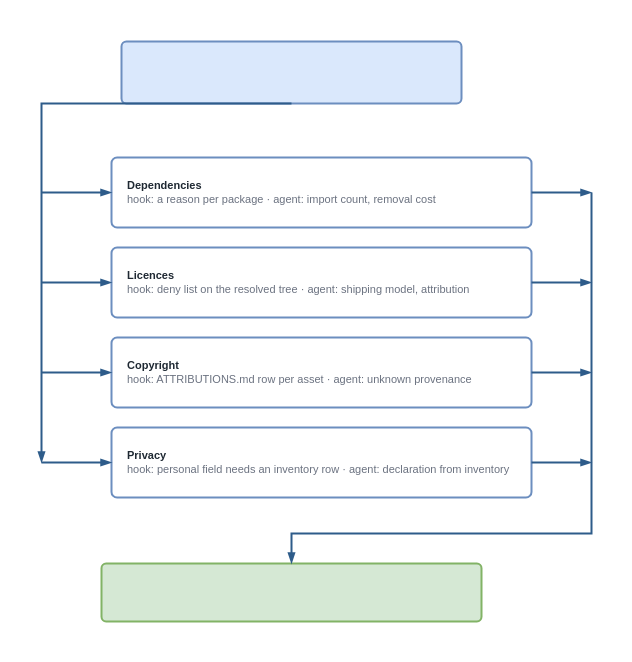
Some shapes in this 632 by 662 pixel diagram are drawn without their labels. The shapes that lost their labels are listed below. From the top down, each one's centre as x and y in pixels, then its label:
point 291,72: Things you chose to install packages, assets, SDKs, the data they touch
point 291,592: Hooks enforce the list agents answer what a list cannot
